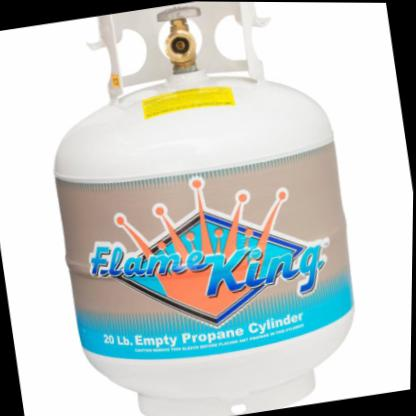gas-tank: (15, 0, 395, 415)
